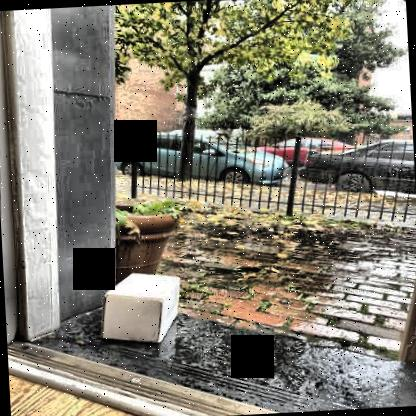no defect parcel: (93, 266, 192, 348)
